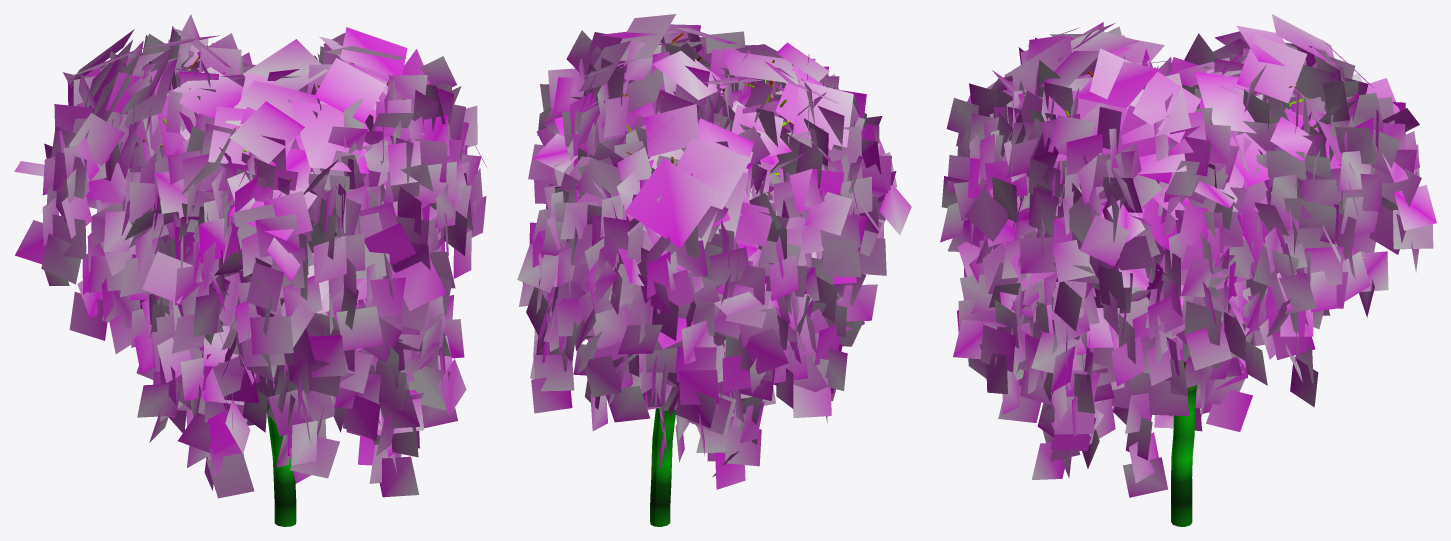
File: Tree_B1.fbx
The picture shows the model from 3 angles, left to right: view 1: azimuth 30°, elevation 25°; view 2: azimuth 150°, elevation 25°; view 3: azimuth 270°, elevation 25°; orthographic projection. The views are drawn at different scales.
Visible parts, largest first — view 1: Tree_B1_LOD0; view 2: Tree_B1_LOD0; view 3: Tree_B1_LOD0.
Part boxes in pixels (x1,y1,x2,y2): Tree_B1_LOD0: (14, 14, 486, 526); Tree_B1_LOD0: (517, 14, 911, 526); Tree_B1_LOD0: (940, 14, 1436, 526).
Size of what is drawn, in the model's own units: 8.39 by 10.82 by 10.01.
